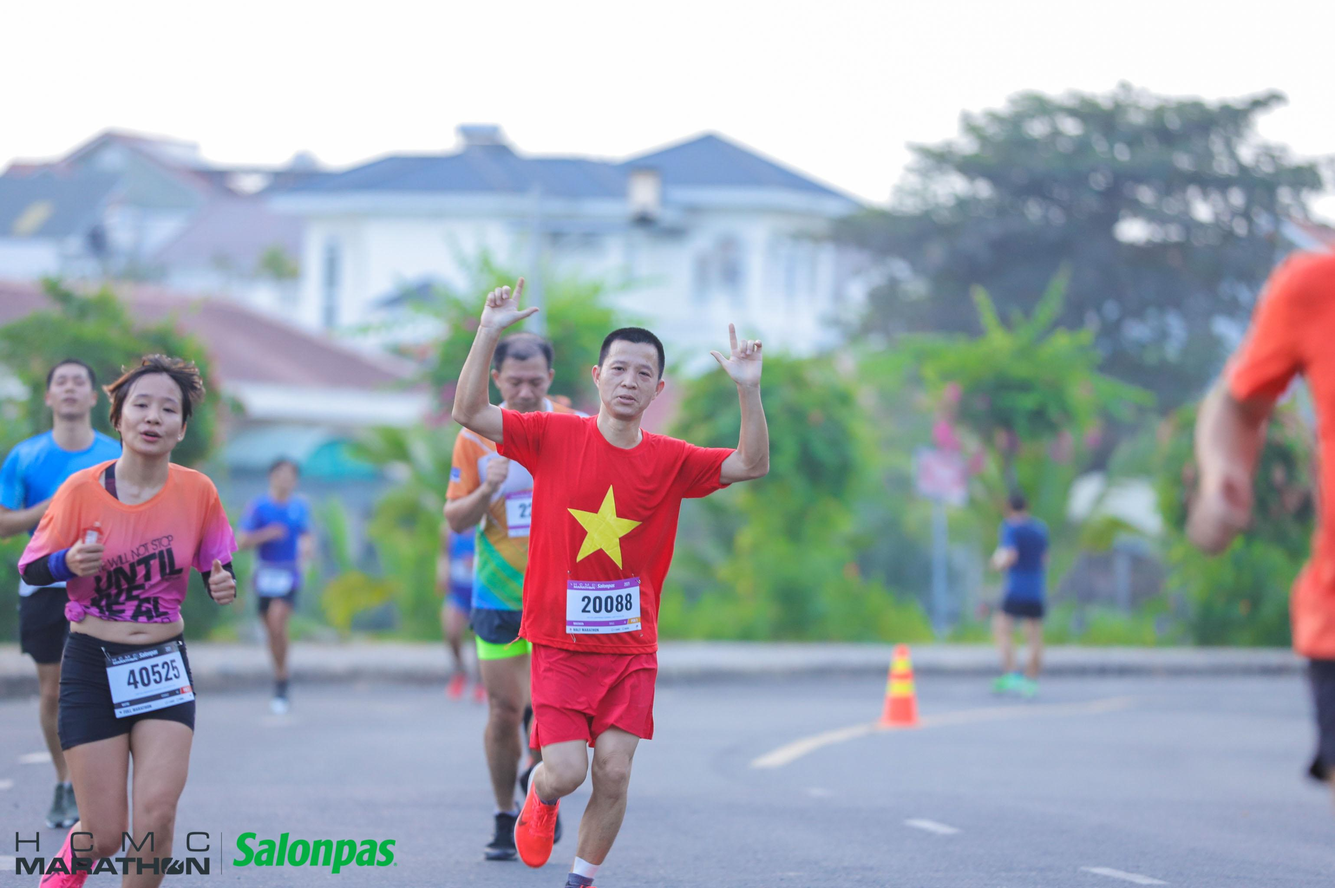bib: (107, 638, 196, 720), (566, 582, 644, 635), (508, 493, 535, 539)
